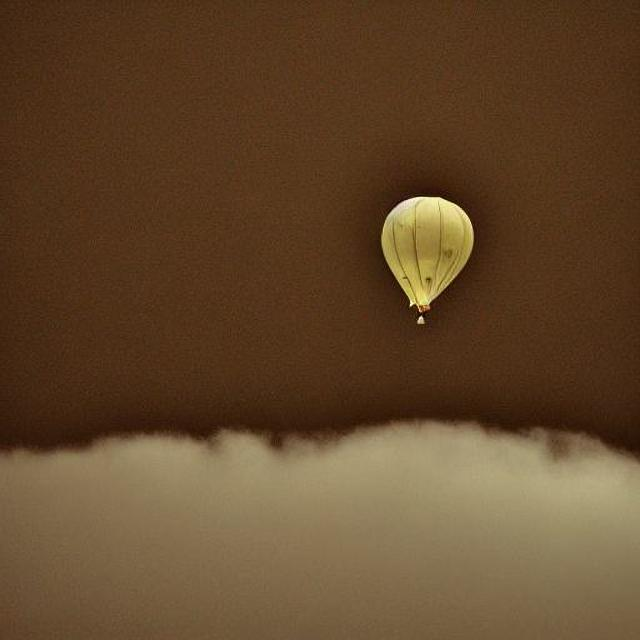balloon: (374, 190, 472, 318)
